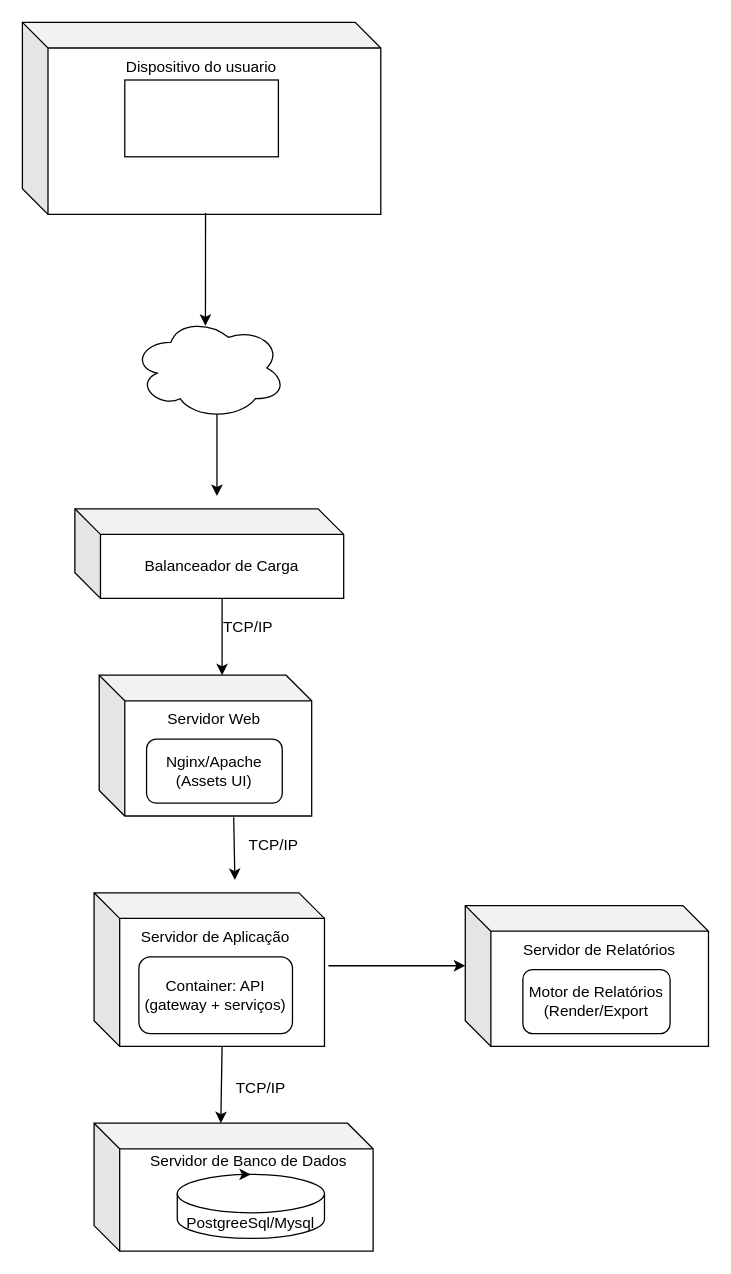
Some shapes in this 731 by 1274 pixel diagram are drawn without their labels. The shapes that lost their labels are listed below. From the top down, each one's box as (x1, y1, x2, y2) in pixels, then its label:
(124, 79, 278, 157): Navegador
(131, 316, 286, 419): Internet
